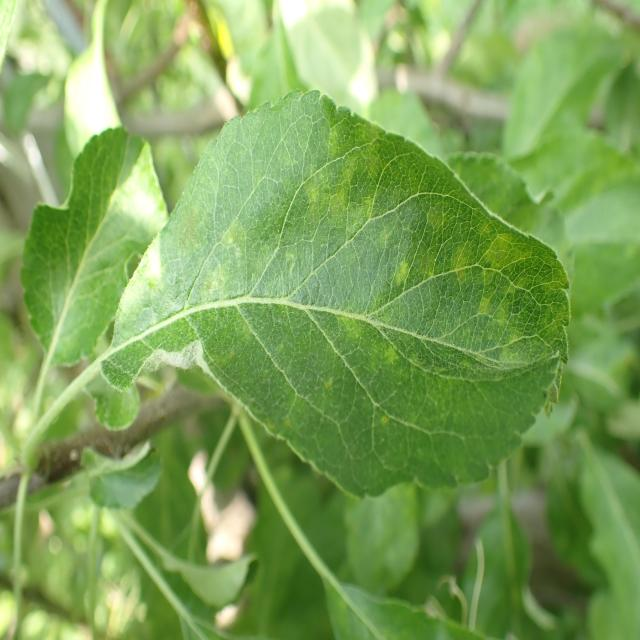scab: (120, 132, 560, 464)
